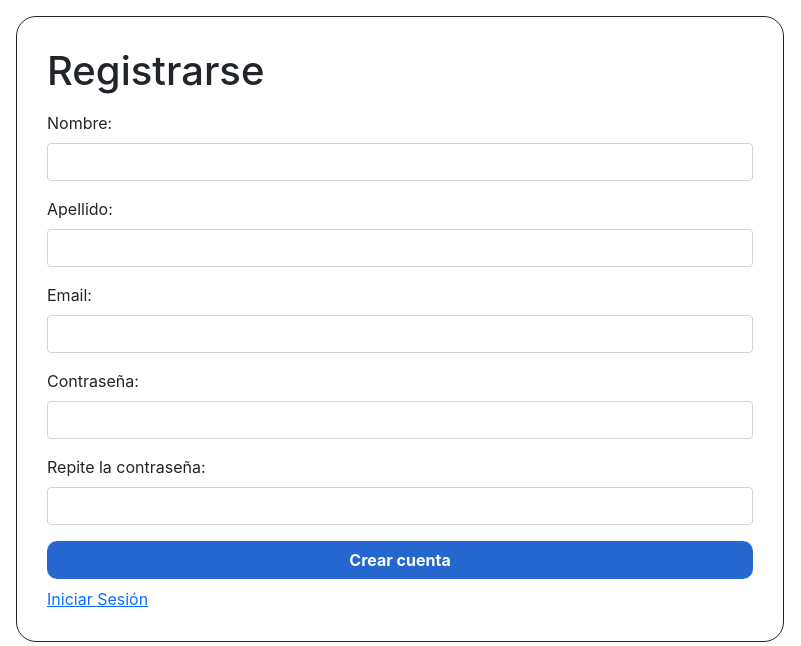
Scenario: <Registro /> Cargando formulario y haciendo testing.
The image size is (801, 646).
Check: the heading with test id "titulo" reads "Registrarse", box [47,46,264,95]
Step 1. Click the button with test id "botonSubmit" → {"x": 400, "y": 560}, box [47,541,753,579]
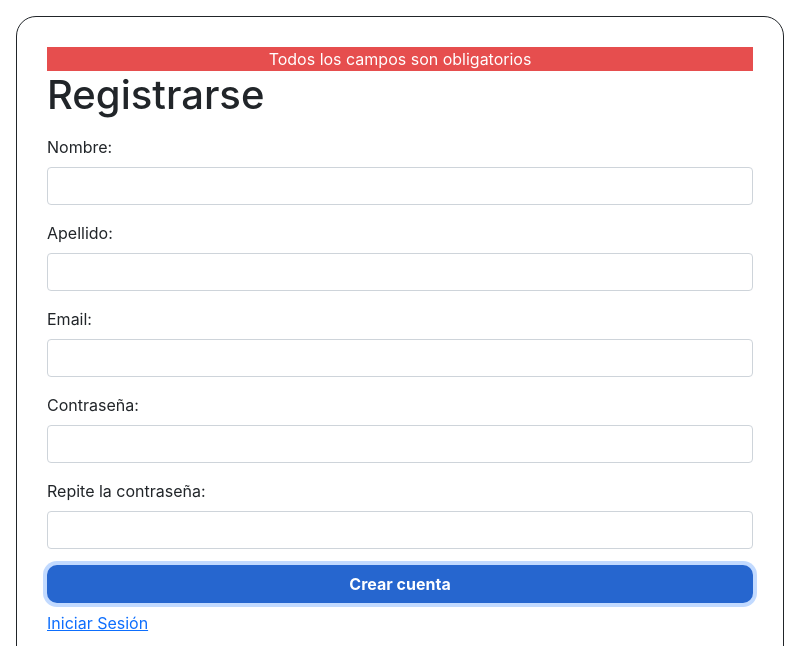
Check: the text with test id "alerta" reads "Todos los campos son obligatorios", box [269,49,531,69]
